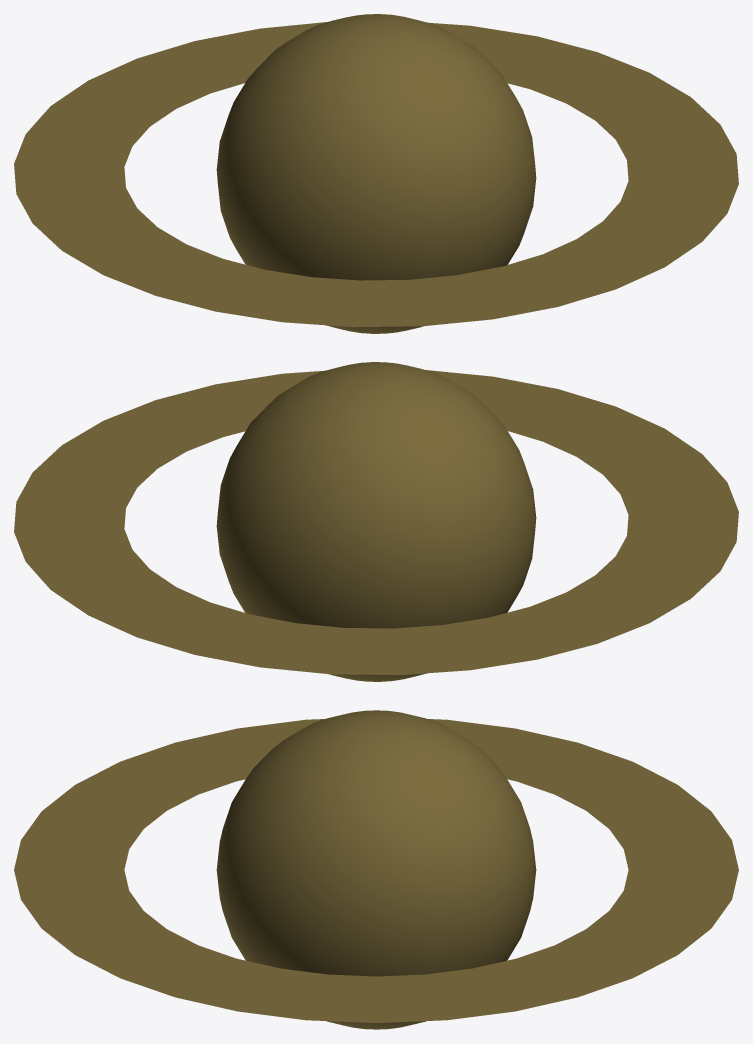
The picture shows the model from 3 angles, top to bottom: view 1: azimuth 30°, elevation 25°; view 2: azimuth 150°, elevation 25°; view 3: azimuth 270°, elevation 25°; orthographic projection.
Visible parts, largest first — view 1: Circle; view 2: Circle; view 3: Circle.
Boxes of the visible parts, x1,y1,x2,y2 form: Circle: [14, 14, 738, 333]; Circle: [14, 362, 738, 681]; Circle: [14, 710, 738, 1029].
Size of the model in its own units: 772 by 340 by 772.
